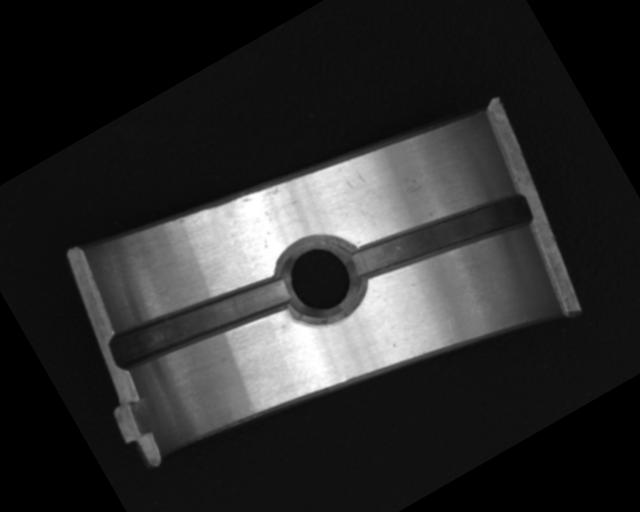gap: (345, 163, 535, 310), (105, 248, 297, 393)
hole: (267, 222, 374, 332)
